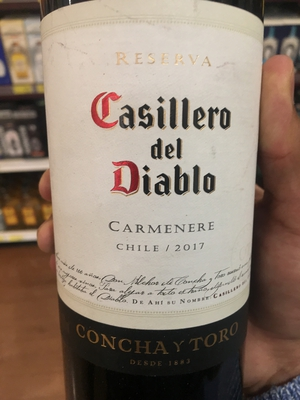casillero del diablo carmenere: (38, 6, 268, 372)
